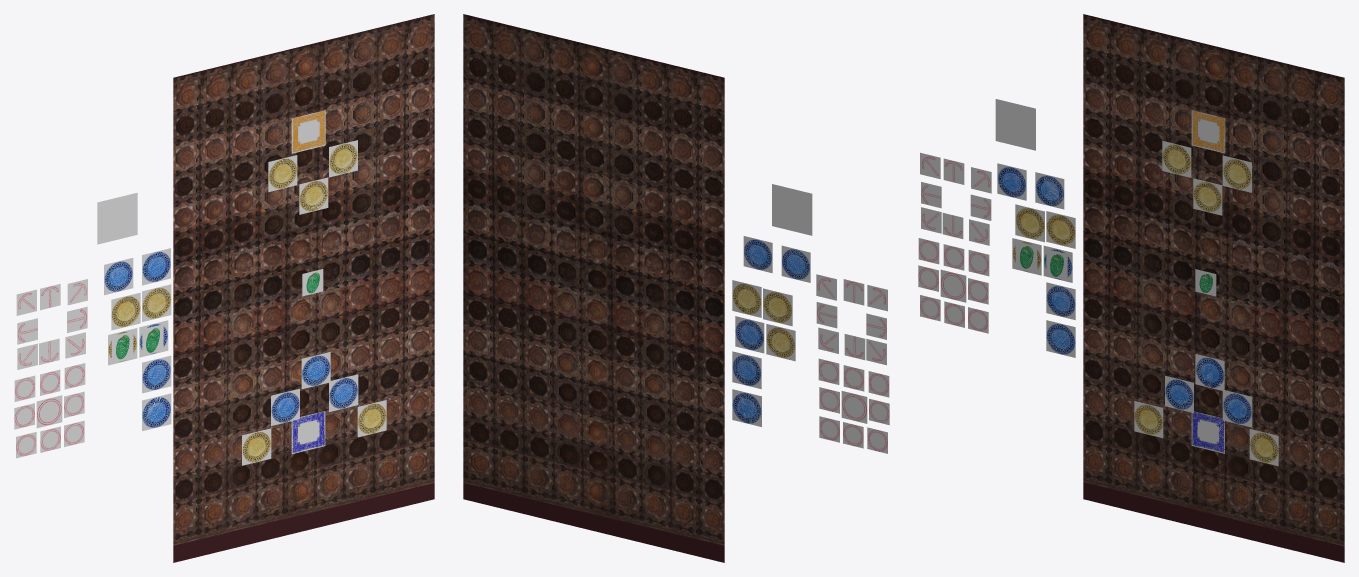
Rendered from Board9Scene.dae.
3 views of the same model, side by side, from view 1: azimuth 30°, elevation 25°; view 2: azimuth 150°, elevation 25°; view 3: azimuth 330°, elevation 25° (orthographic).
Visible parts, largest first — view 1: Board03, Transparent, RedHome, BlueHome, Red06, Blue07, Red07, Blue06, Blue03, Red01, Blue01, Red04 (+9 smaller); view 2: Board03, Transparent, Red06, Blue06, Blue07, Red07, BlueBeanObject, RedBeanObject, Blue05, Blue04, YellowFlare; view 3: Board03, Transparent, RedHome, BlueHome, Blue03, Blue07, Red06, Red07, Blue06, Red01, Red03, Blue04 (+9 smaller).
Part boxes in pixels (box(x1,y1,x2,y2)): Board03: box(173, 14, 434, 562); Transparent: box(97, 192, 137, 244); RedHome: box(291, 110, 325, 153); BlueHome: box(291, 411, 325, 453); Red06: box(111, 292, 140, 330); Blue07: box(142, 393, 171, 431); Red07: box(142, 284, 171, 321); Blue06: box(142, 355, 171, 393); Blue03: box(329, 374, 358, 411); Red01: box(299, 177, 328, 214); Blue01: box(301, 352, 330, 389); Red04: box(242, 428, 271, 465); Board03: box(463, 14, 724, 562); Transparent: box(772, 184, 812, 235); Red06: box(763, 288, 792, 326); Blue06: box(732, 351, 761, 389); Blue07: box(732, 389, 761, 426); Red07: box(732, 280, 761, 317); BlueBeanObject: box(735, 316, 764, 353); RedBeanObject: box(766, 324, 795, 361); Blue05: box(781, 245, 810, 282); Blue04: box(743, 236, 772, 273); YellowFlare: box(841, 391, 867, 423); Board03: box(1083, 14, 1344, 562); Transparent: box(995, 99, 1035, 150); RedHome: box(1191, 110, 1225, 153); BlueHome: box(1191, 411, 1224, 453); Blue03: box(1222, 389, 1252, 427); Blue07: box(1046, 320, 1075, 357); Red06: box(1015, 204, 1044, 242); Red07: box(1046, 211, 1075, 248); Blue06: box(1046, 282, 1075, 319); Red01: box(1193, 178, 1222, 215); Red03: box(1222, 155, 1251, 192); Blue04: box(1035, 172, 1064, 209).
Bounding box in the file's own units: 58.99 × 2.16 × 64.61.
Materials: 11 (11 with a texture image).
